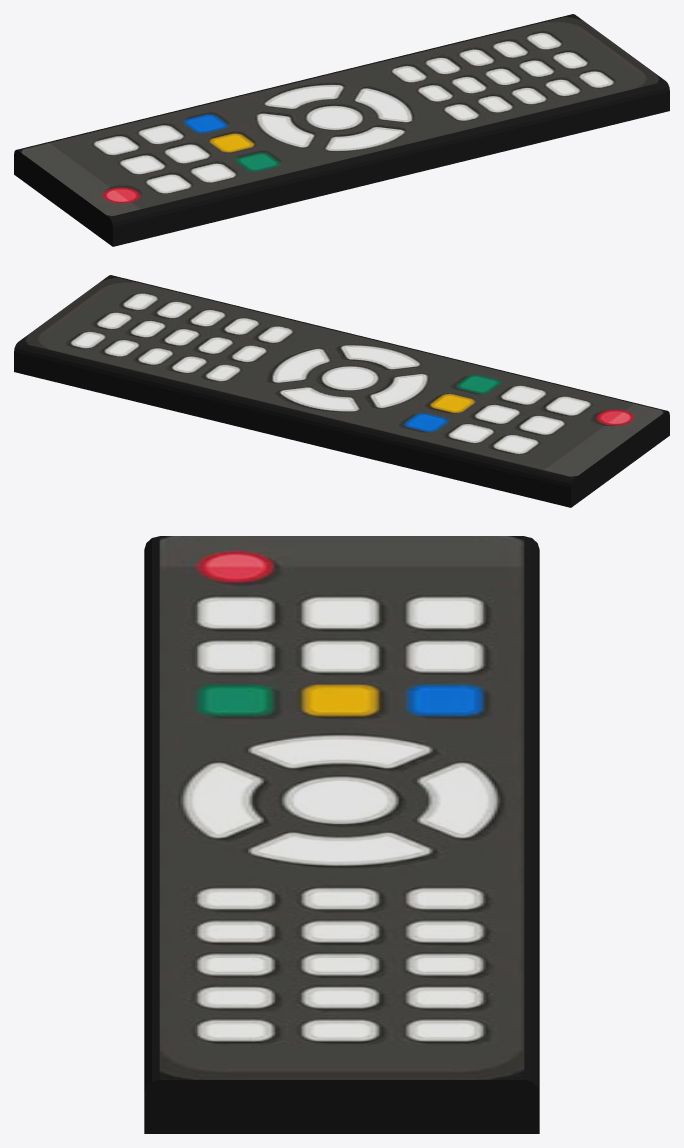
The model's file is Remote.fbx.
The picture shows the model from 3 angles, top to bottom: view 1: azimuth 30°, elevation 25°; view 2: azimuth 150°, elevation 25°; view 3: azimuth 270°, elevation 25°; orthographic projection. The views are drawn at different scales.
Visible parts, largest first — view 1: Remote; view 2: Remote; view 3: Remote.
Part boxes in pixels (<box>): Remote: <box>14,14,669,246</box>; Remote: <box>14,275,669,507</box>; Remote: <box>144,536,539,1133</box>.
Size of the model in its own units: 2.25 by 0.1043 by 0.6928.
Materials: 1 (1 with a texture image).
